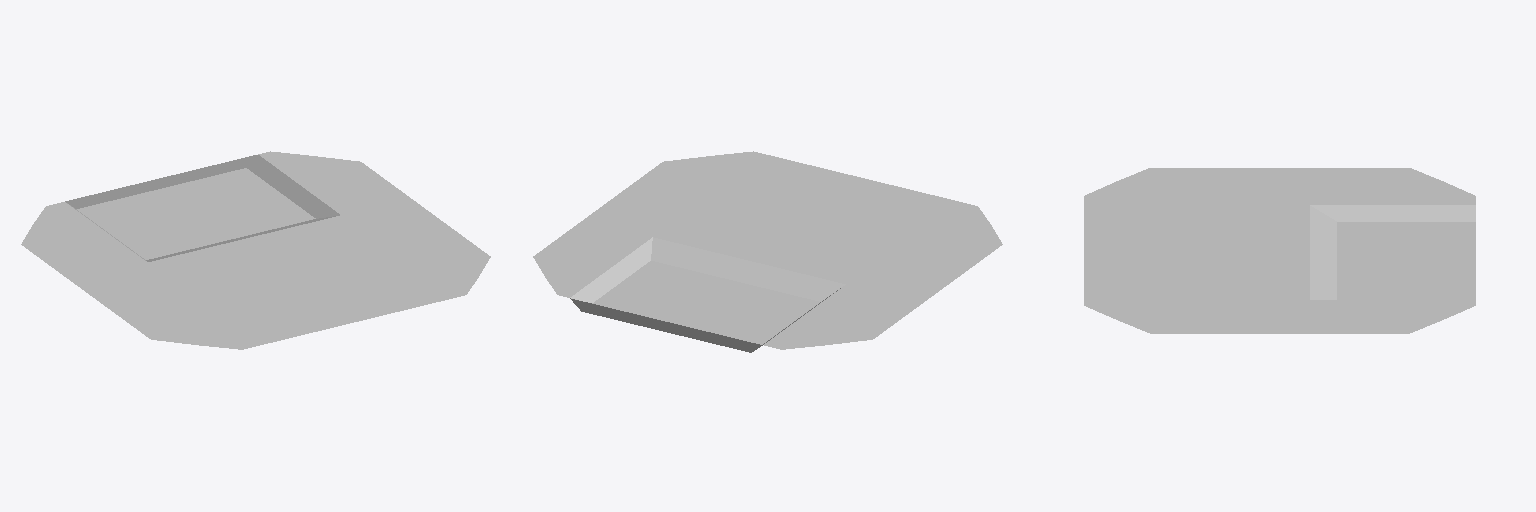
File: Floor_1.obj
3 renders of one model, left to right at view 1: azimuth 30°, elevation 25°; view 2: azimuth 150°, elevation 25°; view 3: azimuth 270°, elevation 25°, orthographic.
Parts seen in each view (by area): view 1: Piso4; view 2: Piso4; view 3: Piso4.
Boxes of the visible parts, x1=… form: Piso4: x1=21, y1=151, x2=490, y2=349; Piso4: x1=533, y1=151, x2=1002, y2=352; Piso4: x1=1084, y1=168, x2=1475, y2=333.
Bounding box in the file's own units: 1200 × 35.73 × 1200.